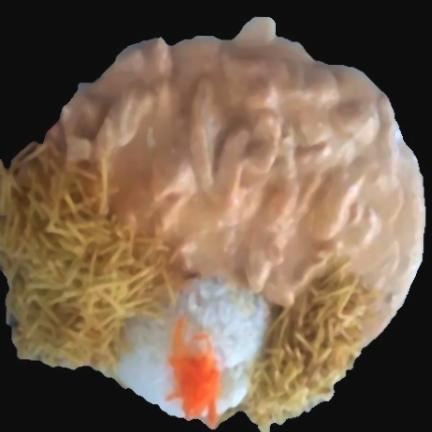chicken: (46, 40, 420, 339), (85, 20, 424, 323)
potato: (0, 142, 182, 371), (0, 144, 180, 370), (249, 270, 391, 432)
rice: (124, 276, 269, 420)
